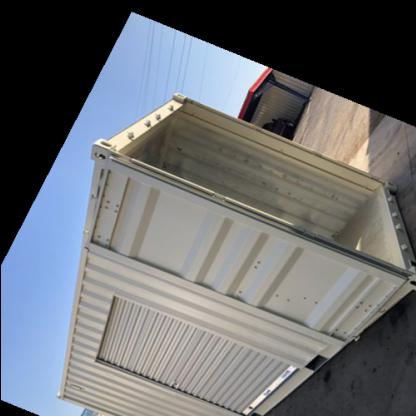Damage: (168, 120, 340, 207), (218, 255, 385, 318)
